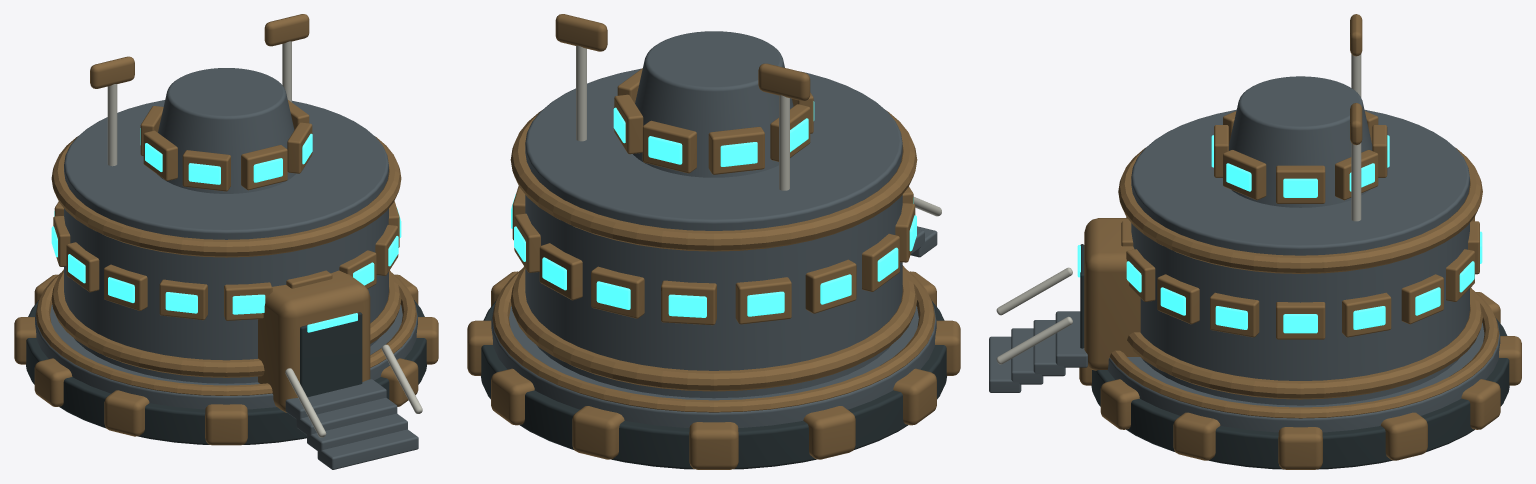
File: controle.glb
3 views of the same model, side by side, from view 1: azimuth 30°, elevation 25°; view 2: azimuth 150°, elevation 25°; view 3: azimuth 270°, elevation 25° (orthographic). The views are drawn at different scales.
Visible parts, largest first — view 1: Poste central, Tour de conduite, Ceinture du poste, Sas, Semelle démontable, Ceinture du poste.001, Châssis, Ceinture du châssis, Porte, Marche.003, Marche, Marche.002 (+32 smaller); view 2: Poste central, Tour de conduite, Semelle démontable, Ceinture du poste, Ceinture du poste.001, Châssis, Ceinture du châssis, Patin.011, Patin, Patin.010, Patin.001, Patin.009 (+25 smaller); view 3: Poste central, Tour de conduite, Semelle démontable, Ceinture du poste, Ceinture du poste.001, Châssis, Sas, Ceinture du châssis, Patin.003, Patin.002, Patin.004, Marche (+25 smaller).
Part boxes in pixels (left/top/right/bottom): Poste central: left=64, top=100, right=388, bottom=383; Tour de conduite: left=157, top=68, right=296, bottom=193; Ceinture du poste: left=51, top=136, right=401, bottom=257; Sas: left=258, top=270, right=370, bottom=412; Semelle démontable: left=26, top=300, right=426, bottom=444; Ceinture du poste.001: left=51, top=269, right=401, bottom=377; Châssis: left=35, top=304, right=417, bottom=409; Ceinture du châssis: left=36, top=273, right=416, bottom=395; Porte: left=300, top=312, right=362, bottom=397; Marche.003: left=317, top=429, right=418, bottom=469; Marche: left=285, top=379, right=386, bottom=420; Marche.002: left=307, top=413, right=407, bottom=452; Poste central: left=525, top=68, right=902, bottom=398; Tour de conduite: left=633, top=31, right=793, bottom=177; Semelle démontable: left=481, top=300, right=946, bottom=469; Ceinture du poste: left=510, top=110, right=917, bottom=251; Ceinture du poste.001: left=510, top=265, right=917, bottom=391; Châssis: left=491, top=306, right=936, bottom=427; Ceinture du châssis: left=492, top=269, right=935, bottom=412; Patin.011: left=689, top=422, right=738, bottom=469; Patin: left=572, top=406, right=624, bottom=459; Patin.010: left=803, top=406, right=855, bottom=459; Patin.001: left=491, top=368, right=534, bottom=425; Patin.009: left=893, top=368, right=936, bottom=425; Poste central: left=1131, top=109, right=1469, bottom=405; Tour de conduite: left=1229, top=76, right=1372, bottom=207; Semelle démontable: left=1091, top=317, right=1509, bottom=469; Ceinture du poste: left=1118, top=147, right=1482, bottom=273; Ceinture du poste.001: left=1127, top=288, right=1482, bottom=399; Châssis: left=1107, top=323, right=1500, bottom=432; Sas: left=1084, top=218, right=1140, bottom=370; Ceinture du châssis: left=1110, top=290, right=1499, bottom=418; Patin.003: left=1278, top=427, right=1322, bottom=469; Patin.002: left=1381, top=412, right=1427, bottom=460; Patin.004: left=1173, top=412, right=1220, bottom=460; Marche: left=1055, top=311, right=1087, bottom=367.
Bounding box in the file's own units: 3.58 × 2.81 × 4.31.
